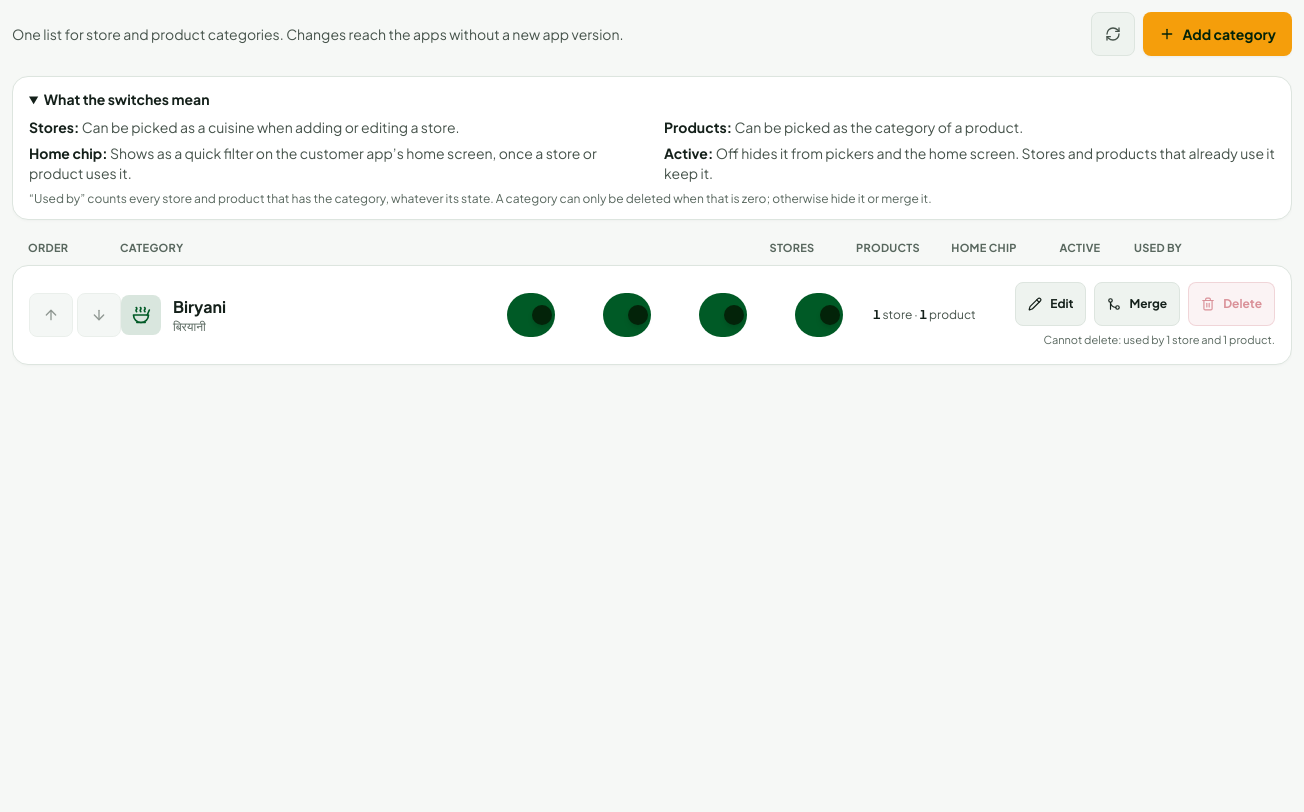
it: switches › a refusal (still in use) keeps the old state, shows the server words and reloads the counts
Click the switch named "Biryani: can be a product category" at (627, 315), box [603,293,651,337]
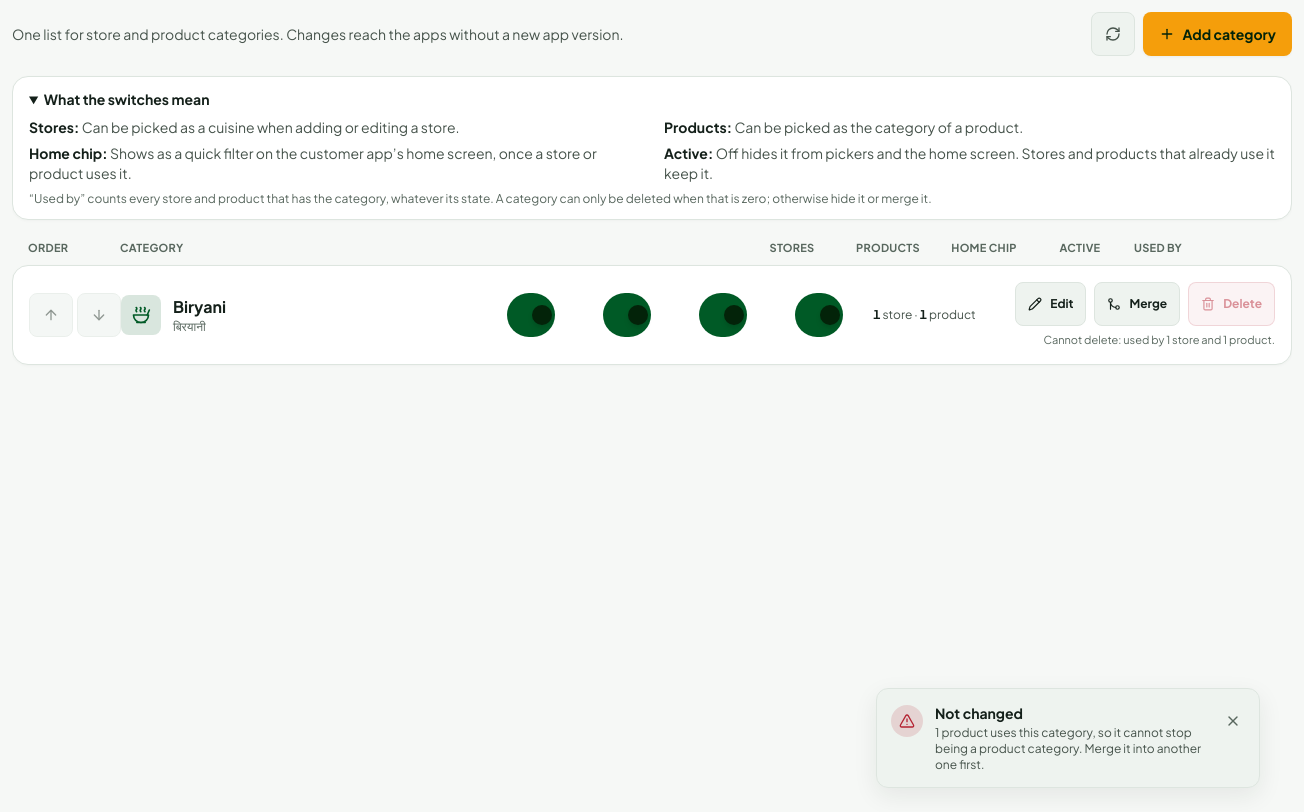
Expected: the text "1 product uses this category" is shown, [935,725,1201,772]
